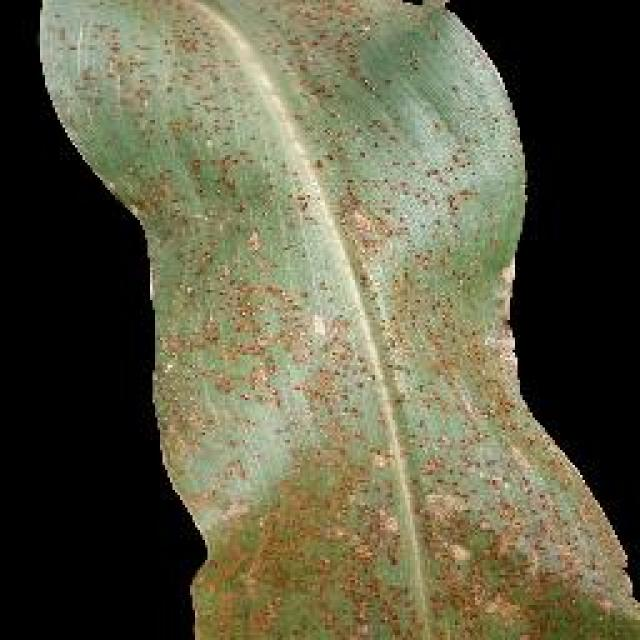Corn Common Rust: (120, 50, 550, 580)
